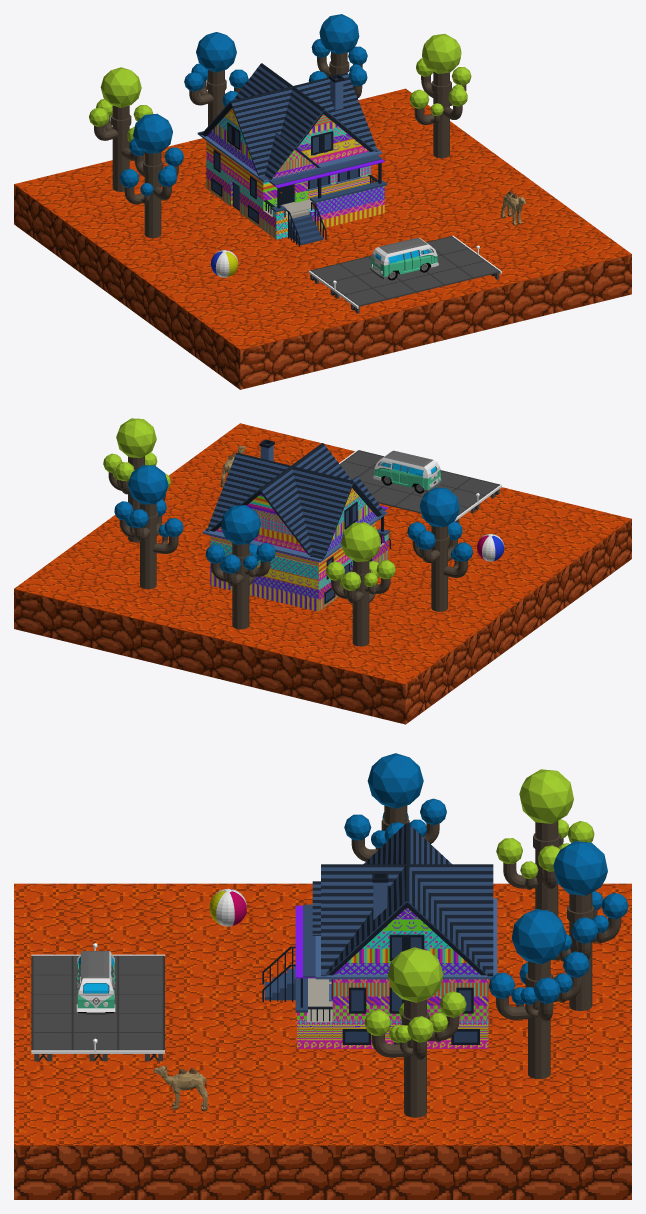
3 renders of one model, top to bottom at view 1: azimuth 30°, elevation 25°; view 2: azimuth 150°, elevation 25°; view 3: azimuth 270°, elevation 25°, orthographic. The views are drawn at different scales.
Parts seen in each view (by area): view 1: Cube.001, Cube.676, VEHICLES_VAN, OBJRANDOM_BEACHBALL, ANIMAL_CAMELLO; view 2: Cube.001, Cube.676, VEHICLES_VAN, OBJRANDOM_BEACHBALL; view 3: Cube.001, Cube.676, VEHICLES_VAN, OBJRANDOM_BEACHBALL, ANIMAL_CAMELLO.
Boxes of the visible parts, bbox=[...] form: Cube.001: bbox=[14, 14, 631, 389]; Cube.676: bbox=[197, 63, 387, 246]; VEHICLES_VAN: bbox=[369, 237, 438, 280]; OBJRANDOM_BEACHBALL: bbox=[211, 250, 238, 277]; ANIMAL_CAMELLO: bbox=[501, 191, 525, 225]; Cube.001: bbox=[14, 418, 631, 724]; Cube.676: bbox=[202, 439, 390, 611]; VEHICLES_VAN: bbox=[373, 450, 442, 493]; OBJRANDOM_BEACHBALL: bbox=[477, 534, 504, 561]; Cube.001: bbox=[14, 753, 631, 1199]; Cube.676: bbox=[262, 823, 497, 1048]; VEHICLES_VAN: bbox=[76, 951, 116, 1014]; OBJRANDOM_BEACHBALL: bbox=[209, 888, 246, 926]; ANIMAL_CAMELLO: bbox=[153, 1064, 207, 1111].
Size of the model in its own units: 4000 by 1816 by 4000.
Materials: 39 (8 with a texture image).
